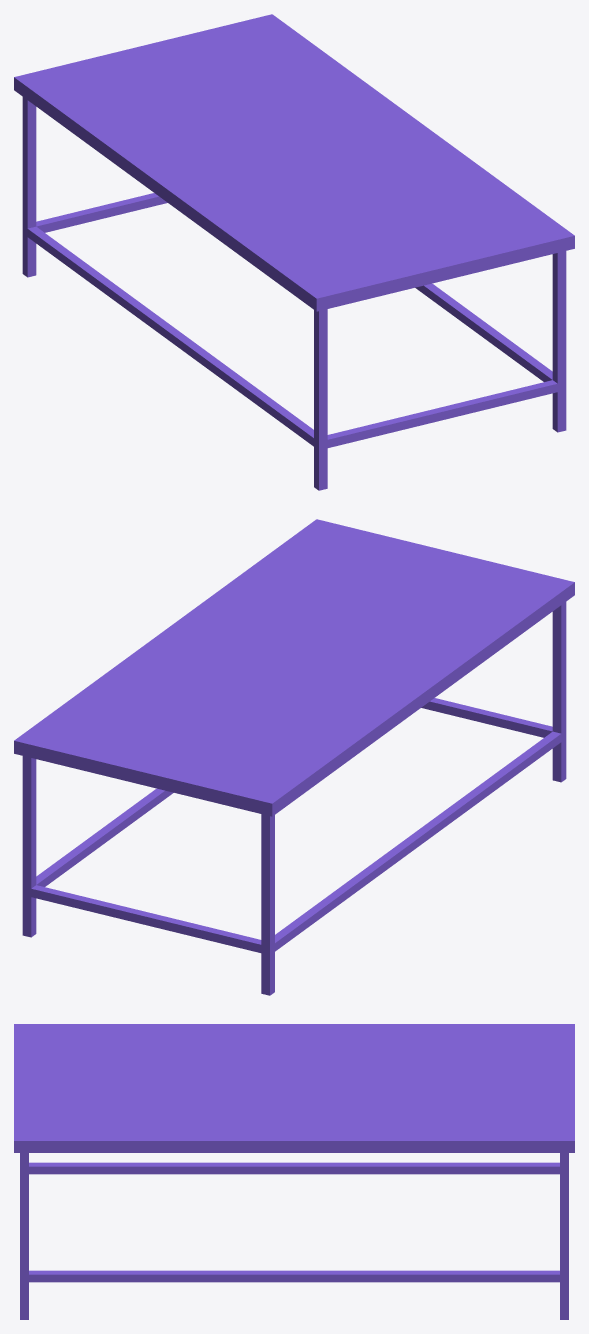
The model's file is Table.fbx.
3 views of the same model, one above another, from view 1: azimuth 30°, elevation 25°; view 2: azimuth 150°, elevation 25°; view 3: azimuth 270°, elevation 25° (orthographic). The views are drawn at different scales.
Visible parts, largest first — view 1: Cube; view 2: Cube; view 3: Cube.
Part boxes in pixels (x1,y1,x2,y2): Cube: (14,14,574,490); Cube: (14,519,574,995); Cube: (14,1024,574,1319).
Bounding box in the file's own units: 98.55 × 71.35 × 200.
